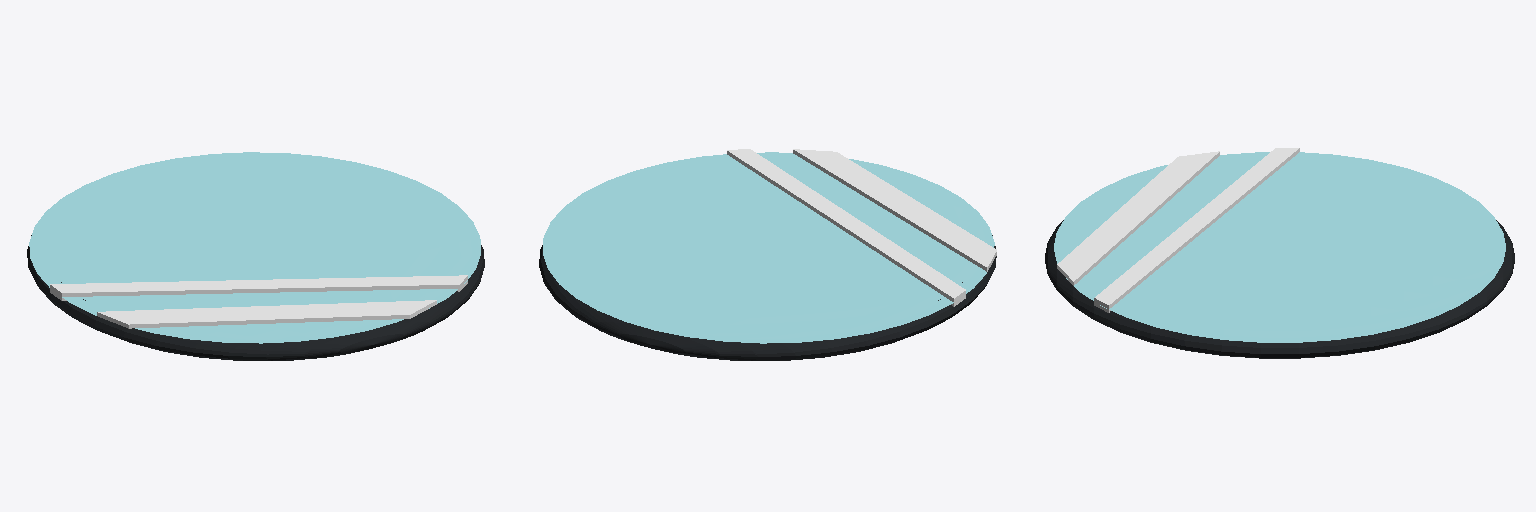
The model's file is tinker.obj.
3 renders of one model, left to right at view 1: azimuth 30°, elevation 25°; view 2: azimuth 150°, elevation 25°; view 3: azimuth 270°, elevation 25°, orthographic.
Visible parts, largest first — view 1: obj_0; view 2: obj_0; view 3: obj_0.
Part boxes in pixels (left/top/right/bottom): obj_0: left=27, top=152, right=484, bottom=360; obj_0: left=539, top=149, right=996, bottom=360; obj_0: left=1045, top=148, right=1514, bottom=358.
Size of the model in its own units: 50 by 3 by 52.